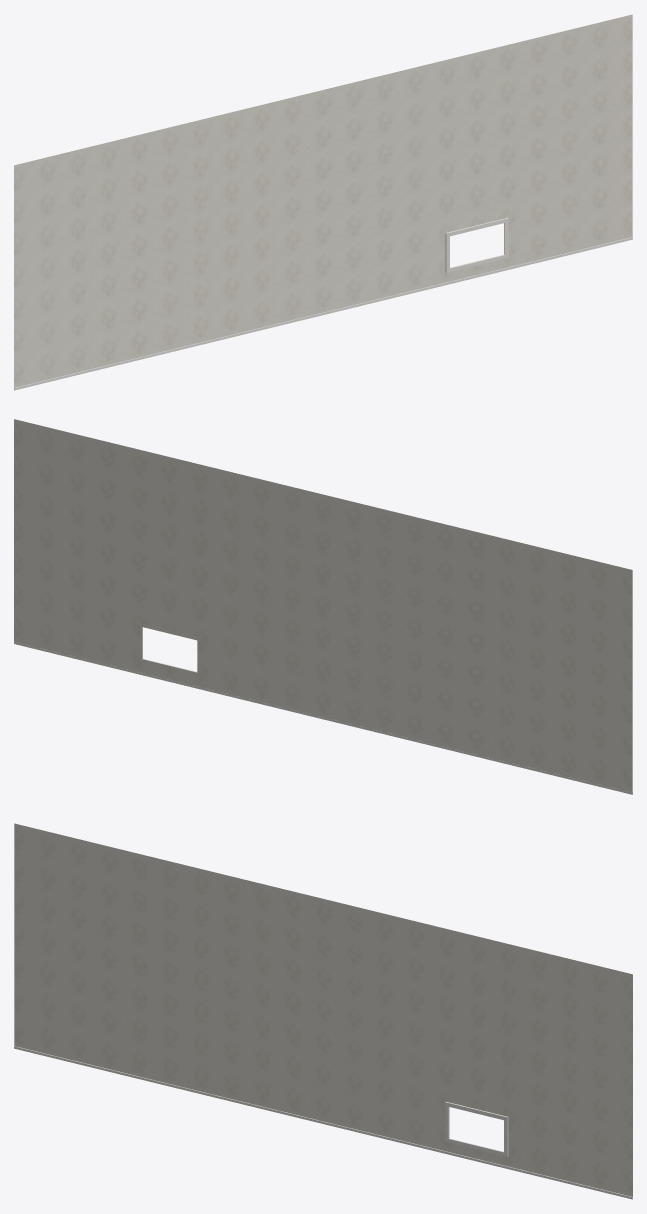
3 renders of one model, top to bottom at view 1: azimuth 30°, elevation 25°; view 2: azimuth 150°, elevation 25°; view 3: azimuth 330°, elevation 25°, orthographic.
Visible parts, largest first — view 1: jx_wm_40_830550be; view 2: jx_wm_40_830550be; view 3: jx_wm_40_830550be.
Boxes of the visible parts, box(x1,y1,x2,y2) form: jx_wm_40_830550be: box(14, 14, 632, 390); jx_wm_40_830550be: box(14, 419, 632, 794); jx_wm_40_830550be: box(14, 823, 632, 1199).
Bounding box in the file's own units: 40.3 × 14 × 0.086.
Materials: 2 (2 with a texture image).
